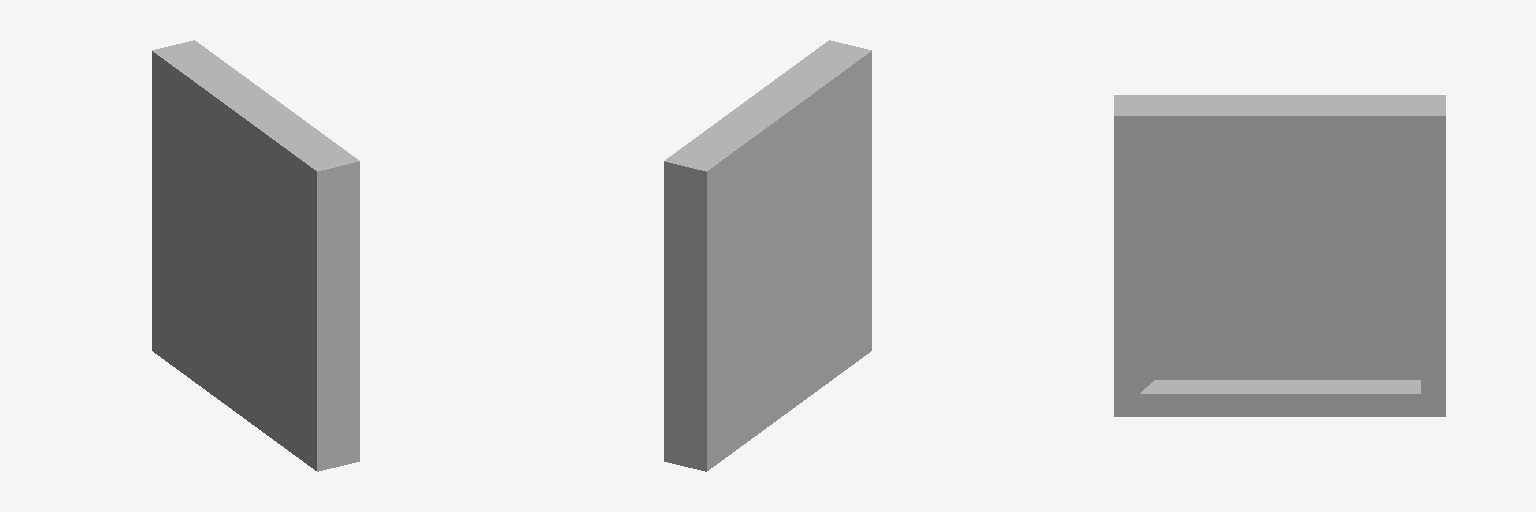
The model's file is window.obj.
3 renders of one model, left to right at view 1: azimuth 30°, elevation 25°; view 2: azimuth 150°, elevation 25°; view 3: azimuth 270°, elevation 25°, orthographic.
Visible parts, largest first — view 1: window_Cube, interior_Cube.001; view 2: window_Cube, interior_Cube.001; view 3: window_Cube, interior_Cube.001.
Part boxes in pixels (left/top/right/bottom): window_Cube: left=152, top=40, right=359, bottom=471; interior_Cube.001: left=164, top=82, right=304, bottom=439; window_Cube: left=664, top=40, right=871, bottom=471; interior_Cube.001: left=719, top=83, right=859, bottom=439; window_Cube: left=1114, top=95, right=1445, bottom=416; interior_Cube.001: left=1155, top=139, right=1420, bottom=379.
Size of the model in its own units: 0.3 by 2 by 2.